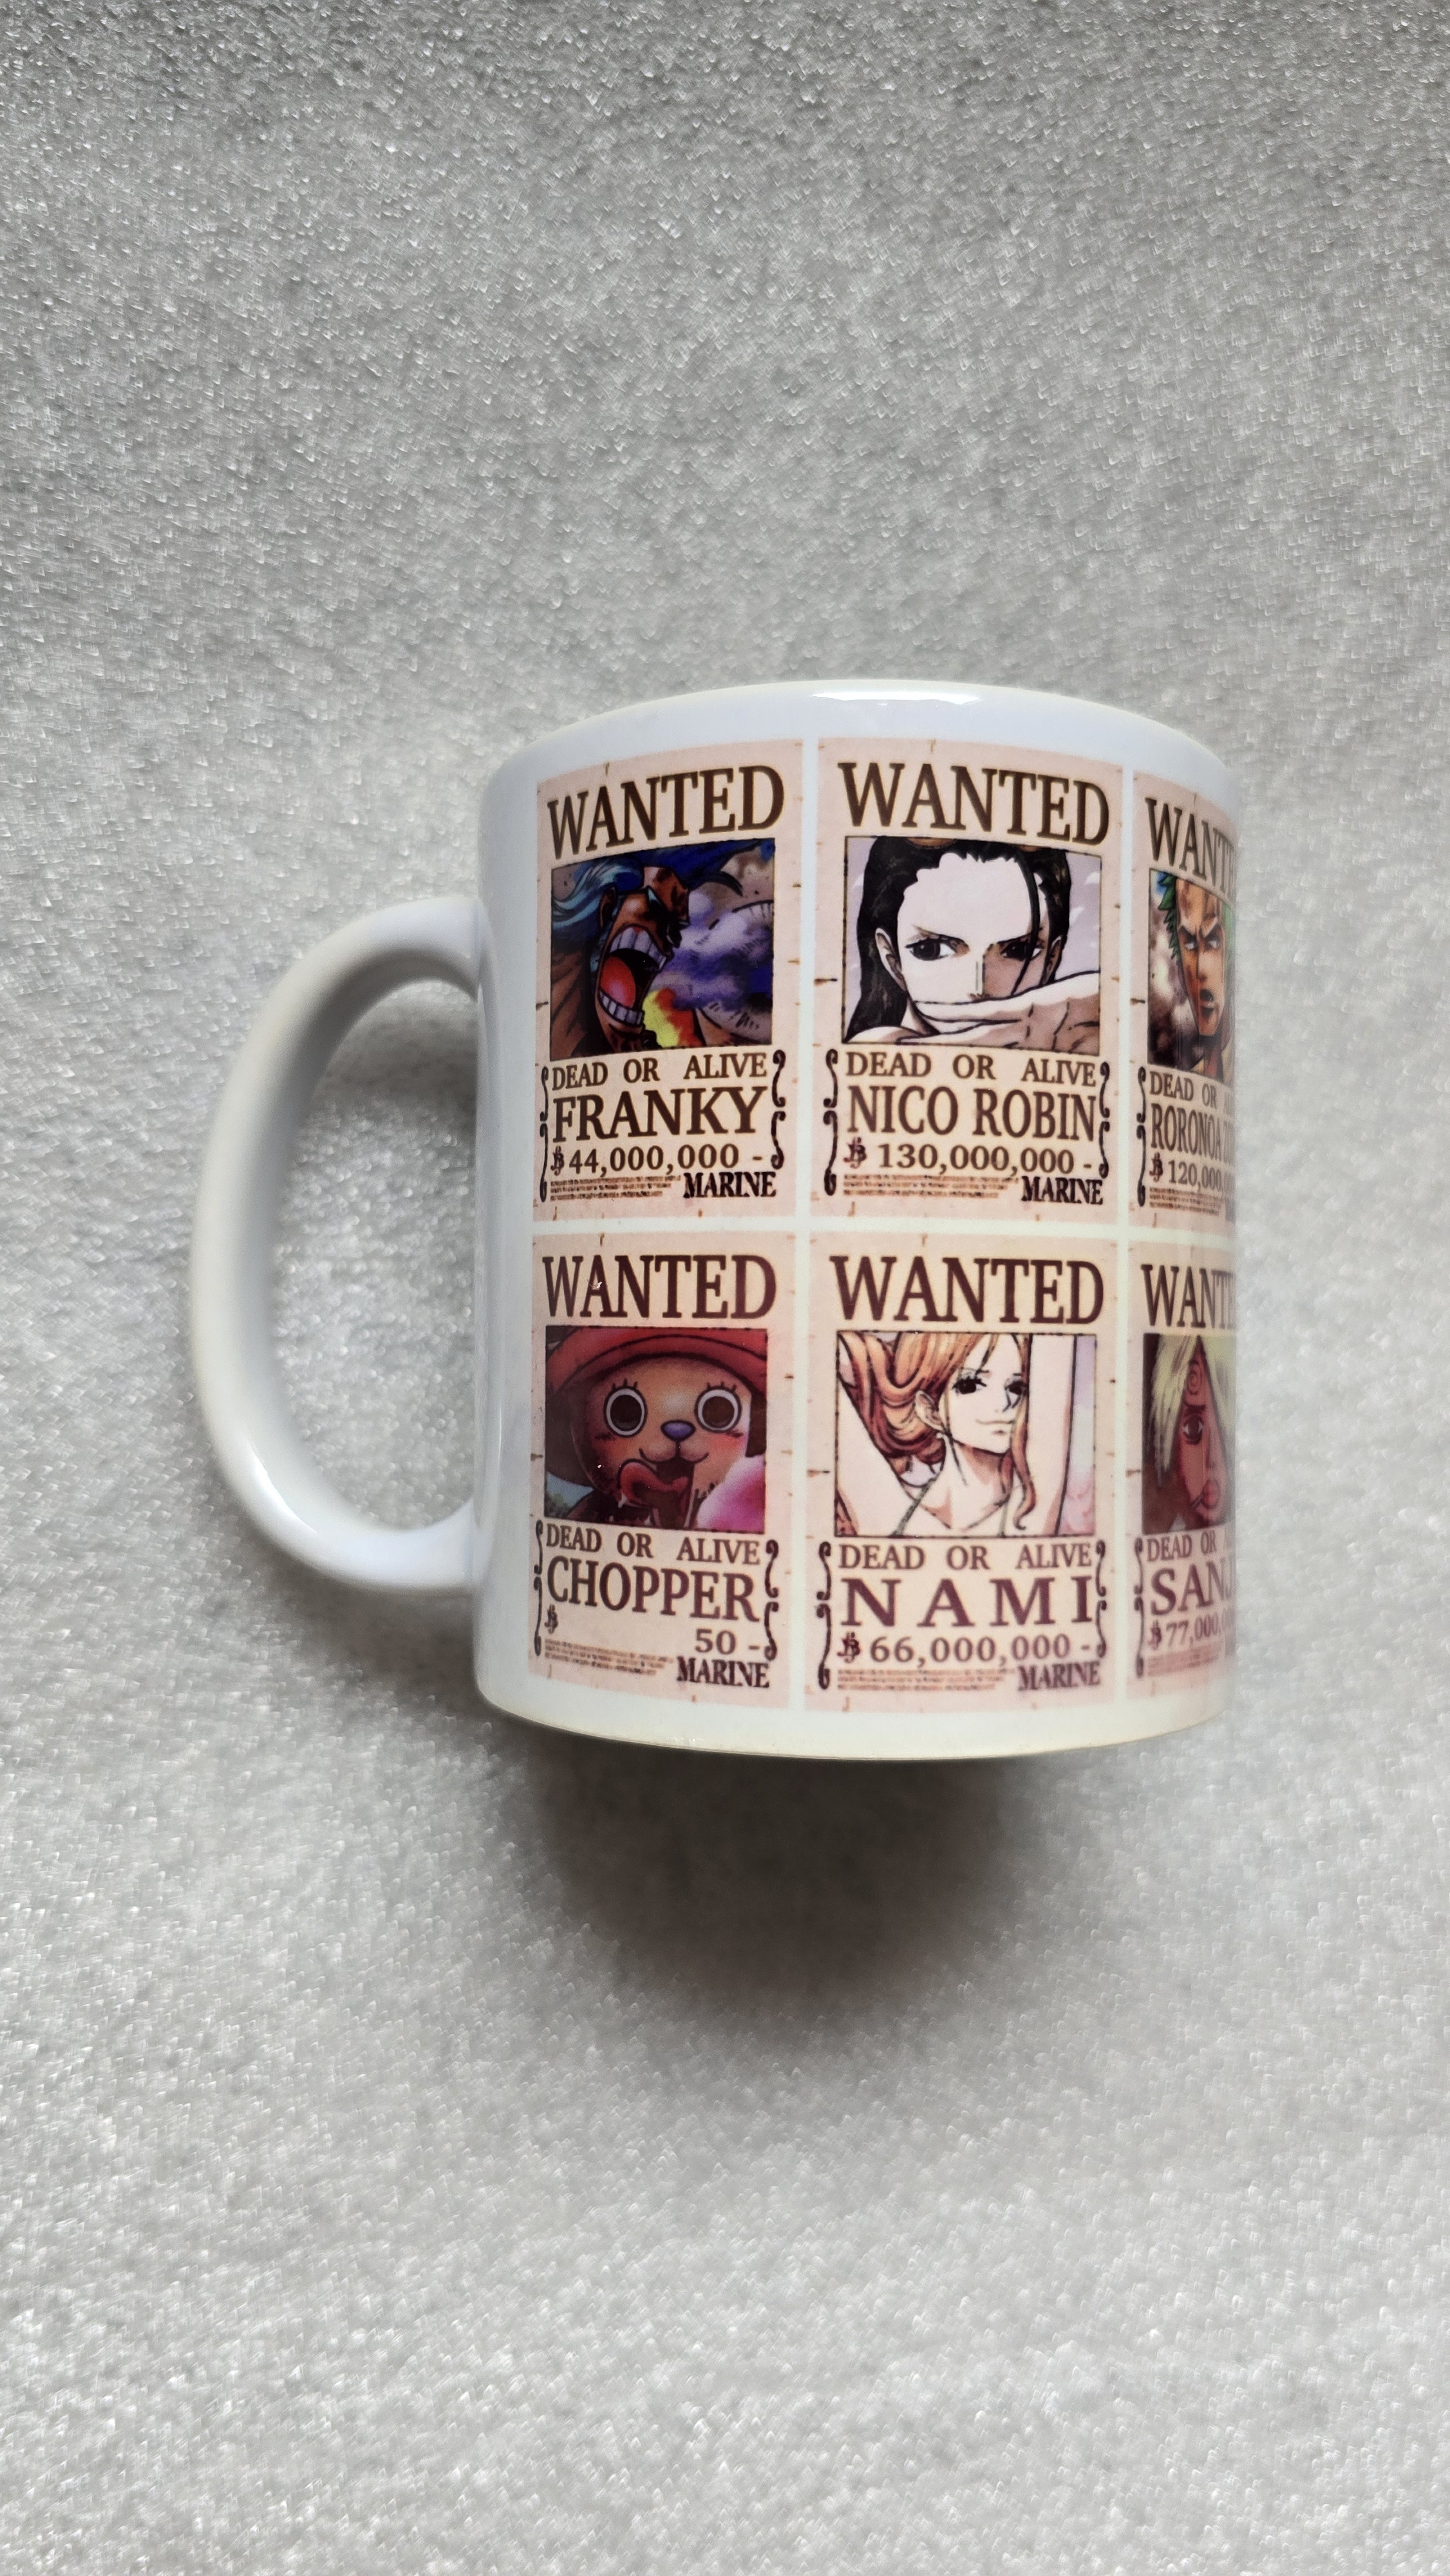mug: (138, 587, 1298, 1787)
